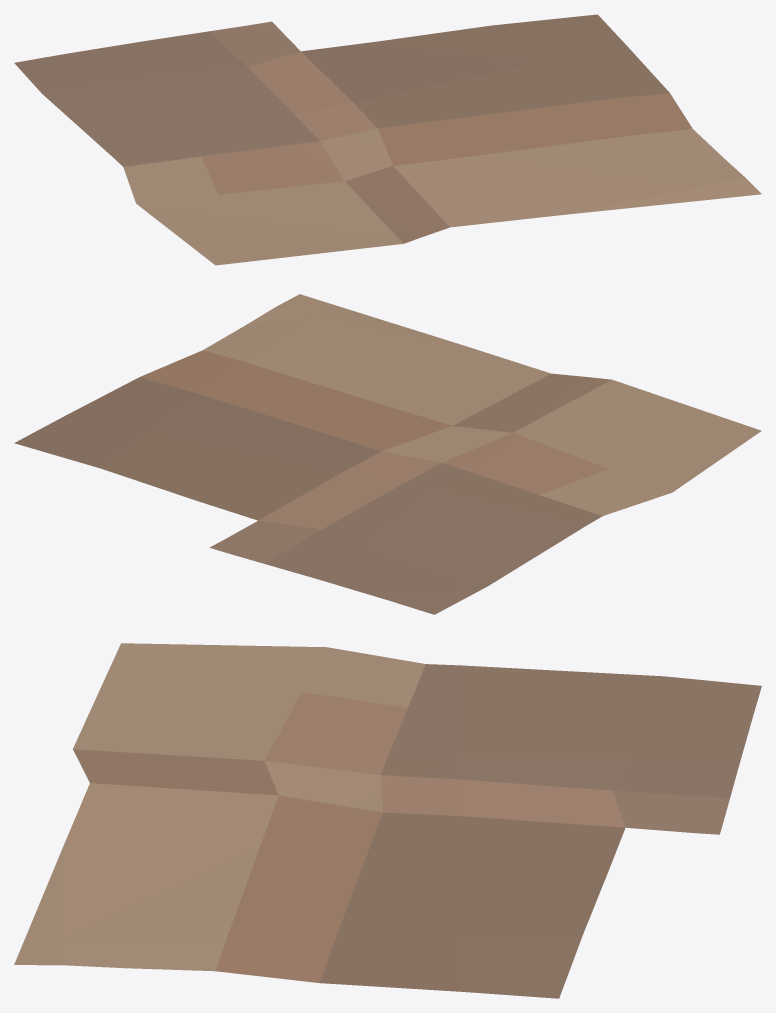
The model's file is farm_31_24_soil.glb.
The picture shows the model from 3 angles, top to bottom: view 1: azimuth 30°, elevation 25°; view 2: azimuth 150°, elevation 25°; view 3: azimuth 270°, elevation 25°; orthographic projection. The views are drawn at different scales.
Visible parts, largest first — view 1: geometry_0; view 2: geometry_0; view 3: geometry_0.
Boxes of the visible parts, x1,y1,x2,y2 form: geometry_0: (14,14,761,265); geometry_0: (14,294,761,614); geometry_0: (14,643,761,998).
Bounding box in the file's own units: 159 × 5.18 × 151.
